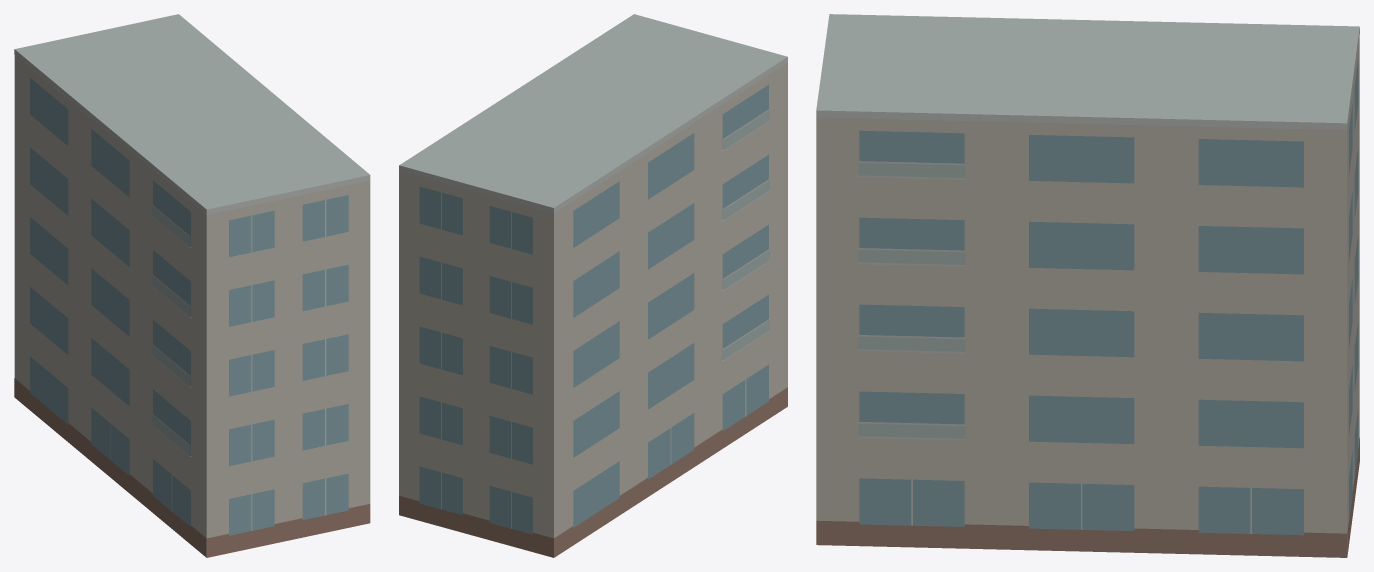
File: survey-upis-32605009.glb
The picture shows the model from 3 angles, left to right: view 1: azimuth 30°, elevation 25°; view 2: azimuth 150°, elevation 25°; view 3: azimuth 270°, elevation 25°; orthographic projection. The views are drawn at different scales.
Parts seen in each view (by area): view 1: survey-upis-32605009.tmp; view 2: survey-upis-32605009.tmp; view 3: survey-upis-32605009.tmp.
Boxes of the visible parts, left/top/right/bottom form: survey-upis-32605009.tmp: left=14, top=14, right=370, bottom=557; survey-upis-32605009.tmp: left=399, top=14, right=787, bottom=557; survey-upis-32605009.tmp: left=816, top=14, right=1359, bottom=557.
Size of the model in its own units: 8.18 by 15.15 by 17.19.
